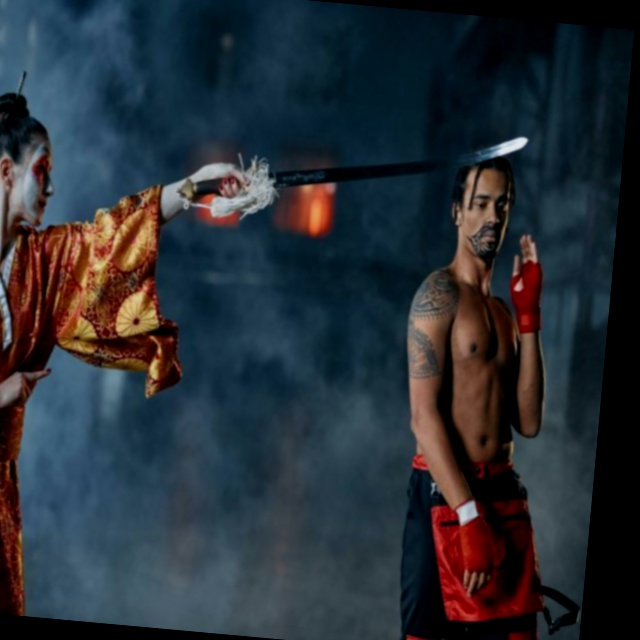Sharp-Object: (169, 90, 536, 240)
